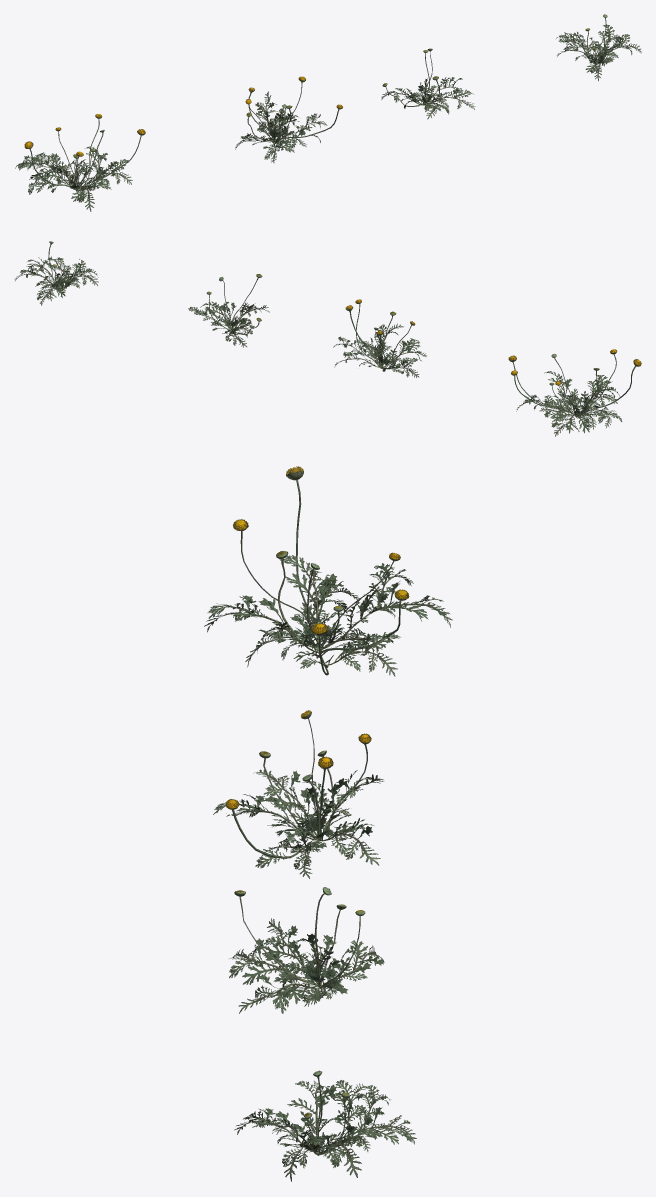
File: flower_stinkkruid.glb
The picture shows the model from 3 angles, top to bottom: view 1: azimuth 30°, elevation 25°; view 2: azimuth 150°, elevation 25°; view 3: azimuth 270°, elevation 25°; orthographic projection. The views are drawn at different scales.
Parts seen in each view (by area): view 1: flower_stinkkruid_a_LOD0, flower_stinkkruid_b_LOD0, flower_stinkkruid_d_LOD0, flower_stinkkruid_c_LOD0; view 2: flower_stinkkruid_a_LOD0, flower_stinkkruid_b_LOD0, flower_stinkkruid_d_LOD0, flower_stinkkruid_c_LOD0; view 3: flower_stinkkruid_a_LOD0, flower_stinkkruid_b_LOD0, flower_stinkkruid_c_LOD0, flower_stinkkruid_d_LOD0.
Part boxes in pixels (x1,y1,x2,y2): flower_stinkkruid_a_LOD0: [15, 114, 145, 211]; flower_stinkkruid_b_LOD0: [235, 76, 342, 162]; flower_stinkkruid_d_LOD0: [556, 14, 641, 81]; flower_stinkkruid_c_LOD0: [381, 48, 475, 119]; flower_stinkkruid_a_LOD0: [508, 349, 641, 436]; flower_stinkkruid_b_LOD0: [333, 299, 426, 377]; flower_stinkkruid_d_LOD0: [14, 241, 98, 305]; flower_stinkkruid_c_LOD0: [188, 274, 269, 347]; flower_stinkkruid_a_LOD0: [204, 466, 452, 676]; flower_stinkkruid_b_LOD0: [213, 710, 383, 878]; flower_stinkkruid_c_LOD0: [229, 887, 384, 1013]; flower_stinkkruid_d_LOD0: [234, 1070, 416, 1181].
Bounding box in the file's own units: 1.71 × 0.1782 × 0.3005.
1 material, 1 textured.
